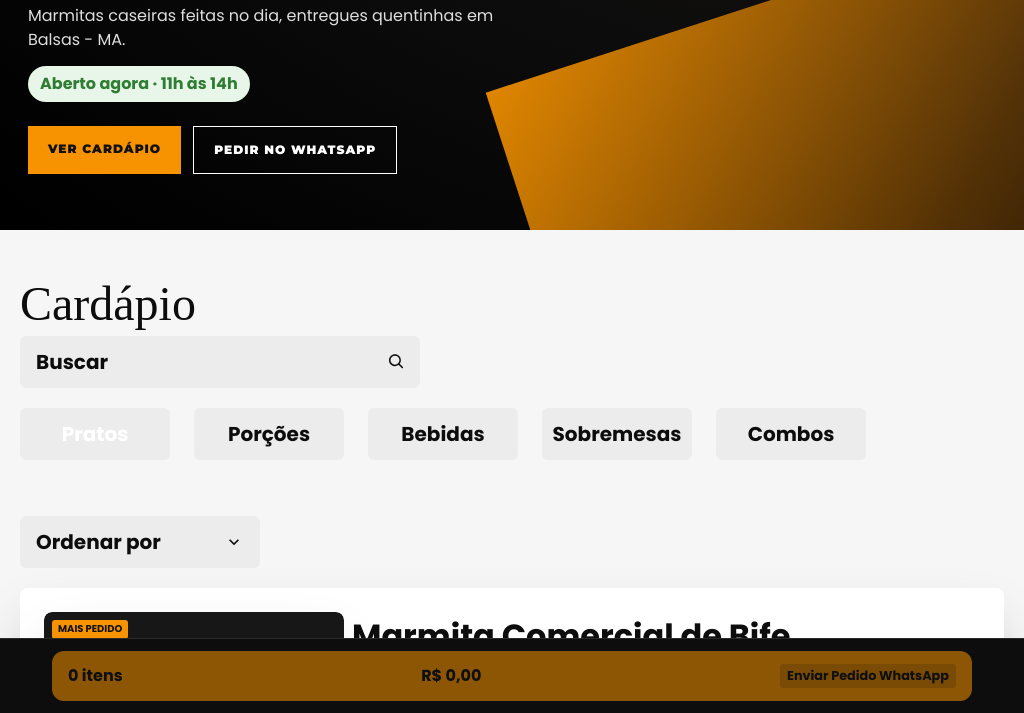
Tela: Site público (cardápio) › busca filtra pelos itens de todas as categorias
This screenshot has width=1024, height=713.
(page scrolled)
Expected: the heading "Marmita Comercial de Bife" is shown, x1=352 y1=613 x2=790 y2=658
Type "bife" into the field named "Buscar no cardápio" at (201, 362), box x1=36 y1=336 x2=366 y2=388
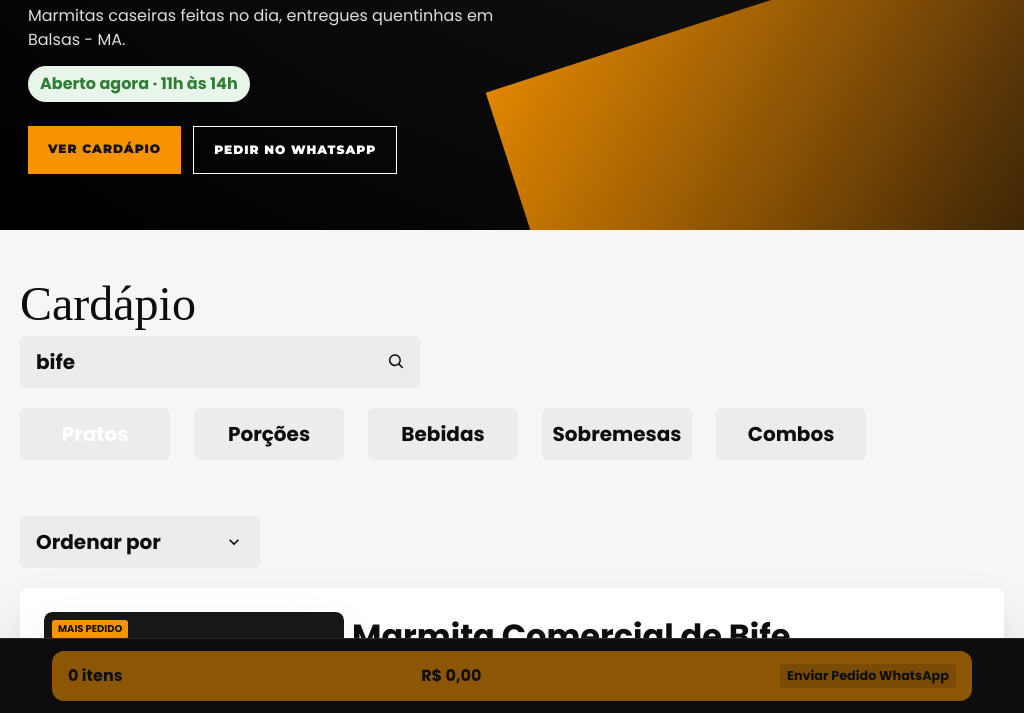
Expected: the heading "Marmita Comercial de Bife" is shown, x1=352 y1=613 x2=790 y2=658
Replace the text in the field named "Buscar no cardápio" with "inexistente" at (201, 362), box x1=36 y1=336 x2=366 y2=388
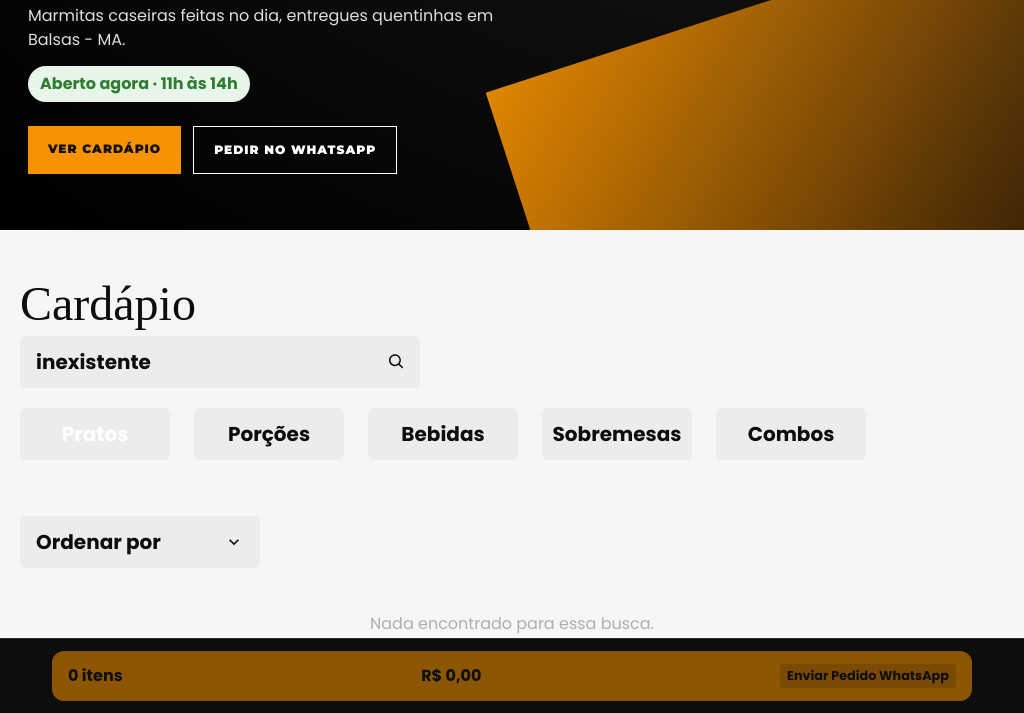
Expected: the text "Nada encontrado para essa busca." is shown, x1=370 y1=612 x2=654 y2=635
